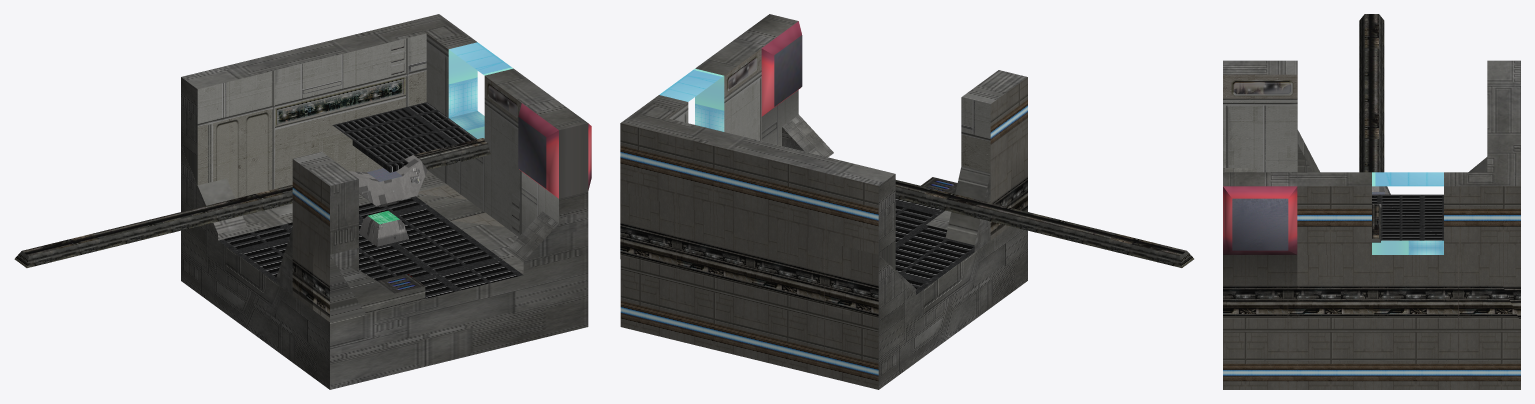
The model's file is room1.gltf.
3 renders of one model, left to right at view 1: azimuth 30°, elevation 25°; view 2: azimuth 150°, elevation 25°; view 3: azimuth 270°, elevation 25°, orthographic.
Visible parts, largest first — view 1: polymsh10, polymsh_detached79; view 2: polymsh10; view 3: polymsh10.
Part boxes in pixels (x1,y1,x2,y2): polymsh10: [14, 14, 591, 389]; polymsh_detached79: [359, 200, 408, 246]; polymsh10: [620, 14, 1193, 389]; polymsh10: [1223, 14, 1520, 389].
Bounding box in the file's own units: 31.05 × 12.07 × 16.
Materials: 14 (14 with a texture image).
